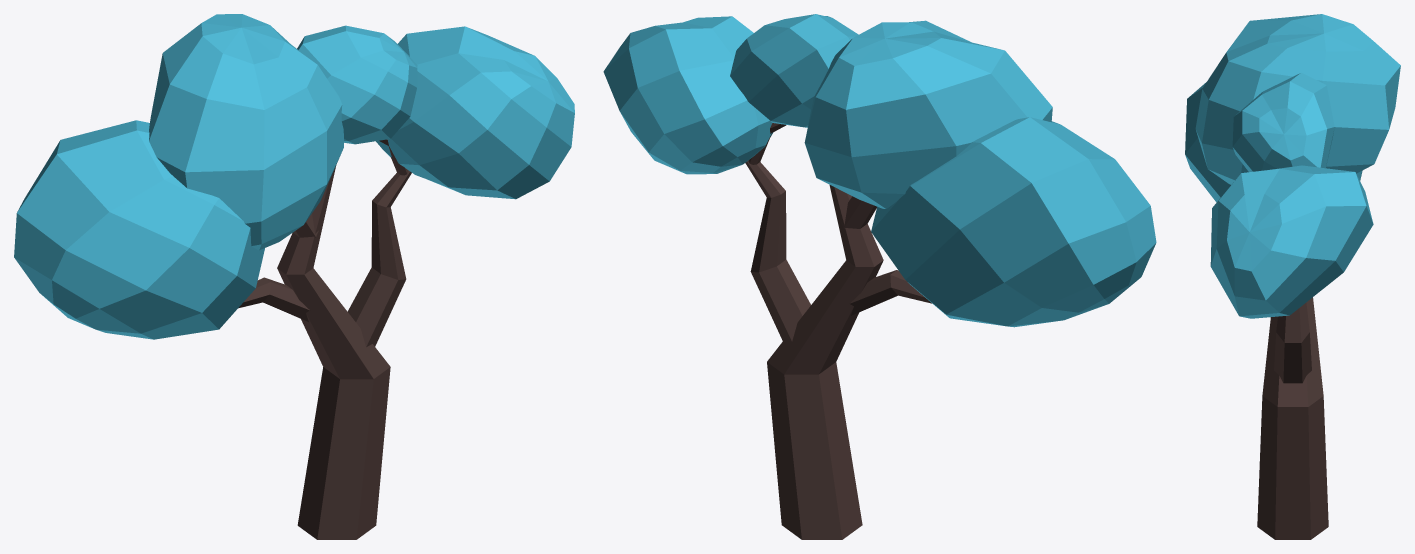
Rendered from ArvoreAzul.fbx.
The picture shows the model from 3 angles, left to right: view 1: azimuth 30°, elevation 25°; view 2: azimuth 150°, elevation 25°; view 3: azimuth 270°, elevation 25°; orthographic projection. The views are drawn at different scales.
Parts seen in each view (by area): view 1: Circle.001; view 2: Circle.001; view 3: Circle.001.
Part boxes in pixels (x1,y1,x2,y2): Circle.001: (14, 14, 574, 539); Circle.001: (603, 14, 1156, 539); Circle.001: (1185, 14, 1400, 539).
Size of the model in its own units: 301 by 273 by 116.
